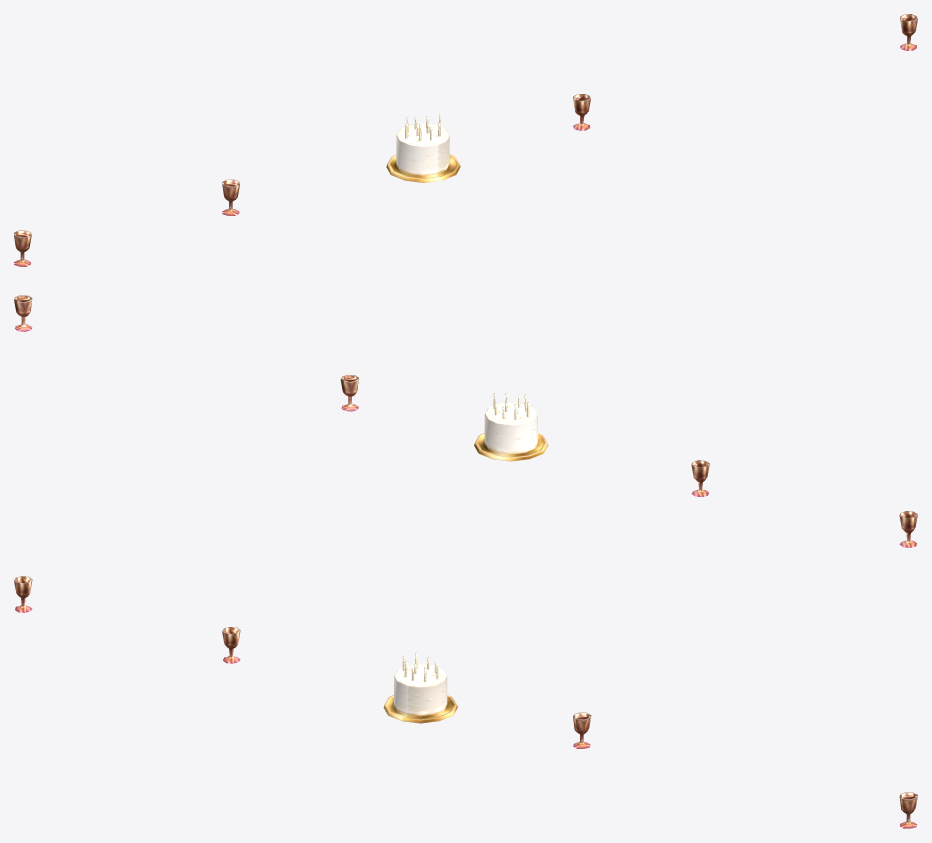
File: hallTableSupplies.glb
3 views of the same model, one above another, from view 1: azimuth 30°, elevation 25°; view 2: azimuth 150°, elevation 25°; view 3: azimuth 330°, elevation 25° (orthographic).
Parts seen in each view (by area): view 1: HallTable.Supplies; view 2: HallTable.Supplies; view 3: HallTable.Supplies.
Boxes of the visible parts, <box> form: HallTable.Supplies: <box>14,14,917,266</box>; HallTable.Supplies: <box>14,295,917,547</box>; HallTable.Supplies: <box>14,576,917,828</box>.
Bounding box in the file's own units: 14.28 × 0.7329 × 1.02.
1 material, 1 textured.
